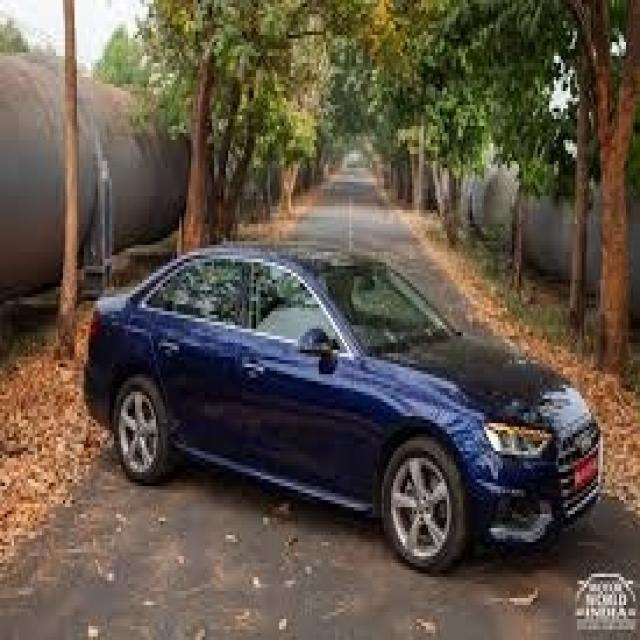blue: (68, 209, 595, 563)
